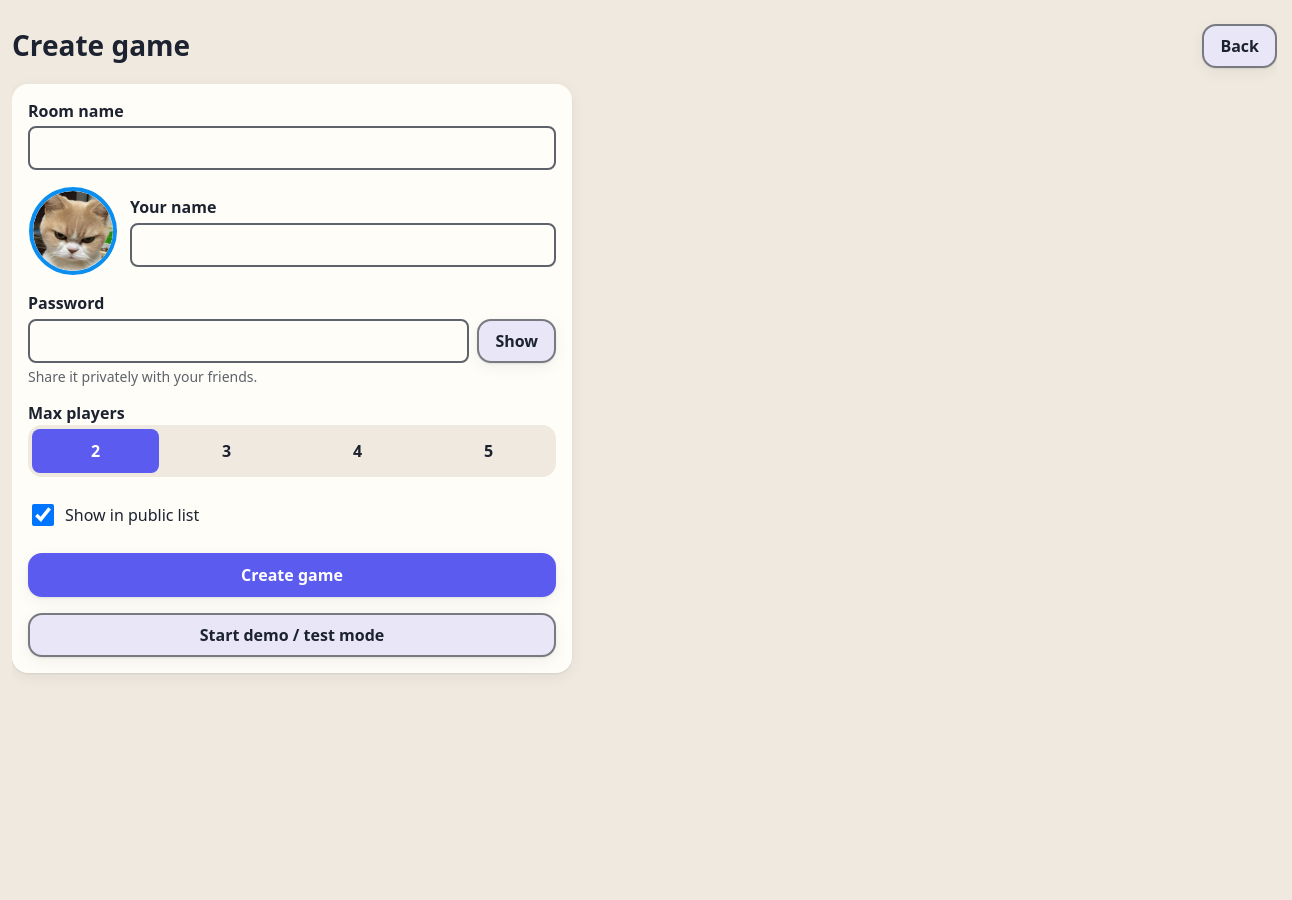
Test case: CreateGame › shows inline field errors and does not submit invalid input
Step 1. Click the button "Create game" → click(292, 575), box [28, 553, 556, 597]
(page scrolled)
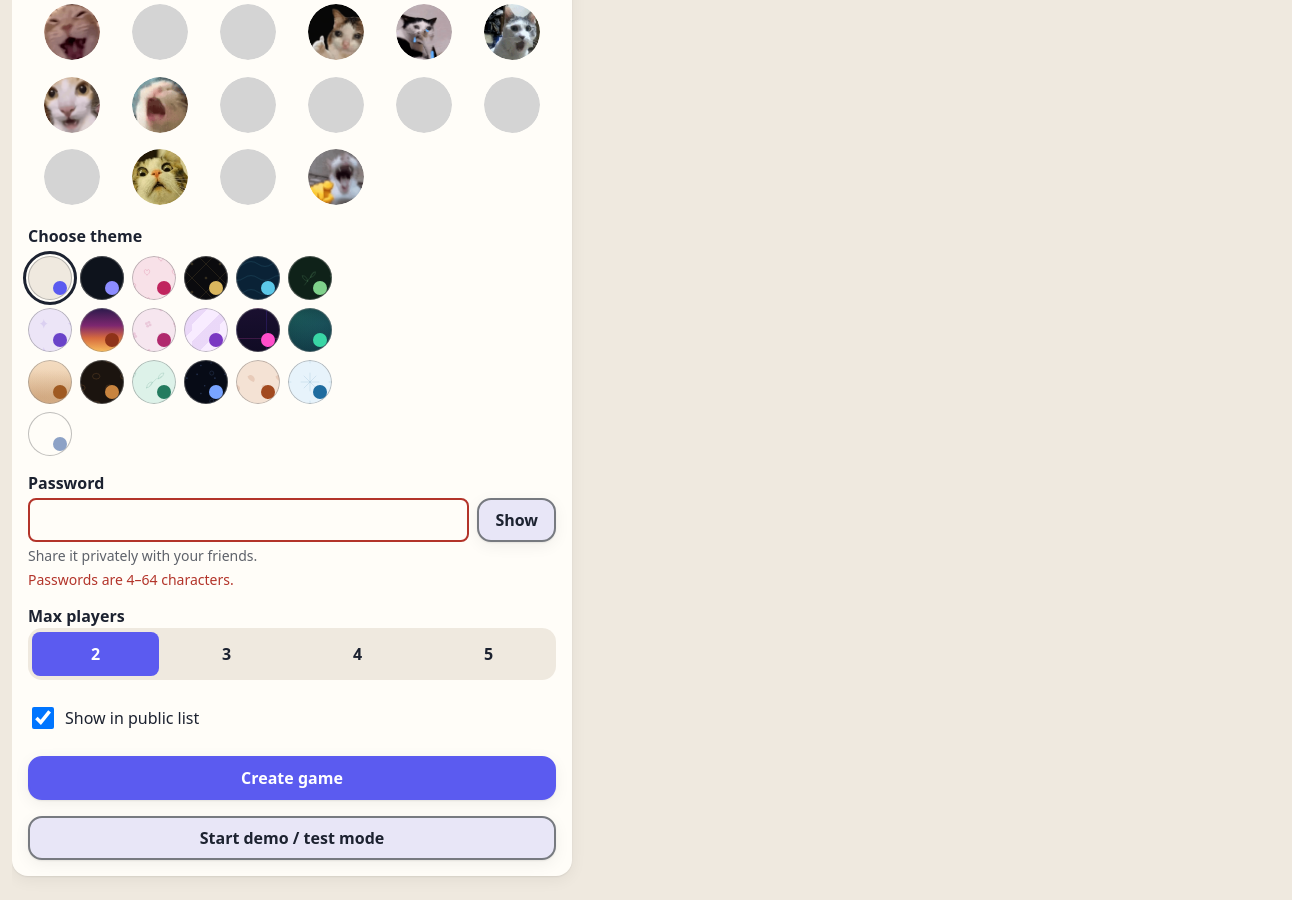
Now the text "Passwords are 4–64 characters." is shown, box [28, 570, 234, 589]
